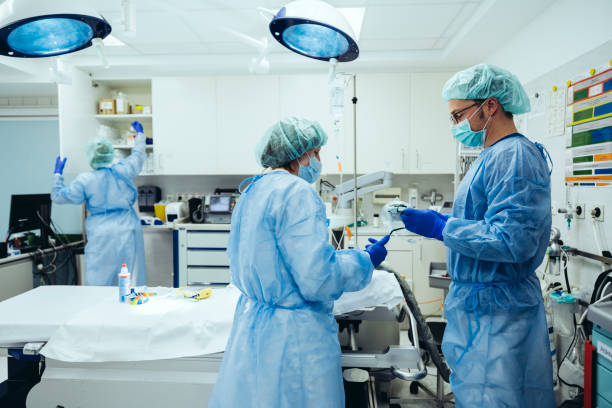cabinet: (51, 77, 483, 175)
computer: (10, 192, 53, 233)
dispenser: (408, 187, 419, 208)
iv_pole: (331, 72, 359, 246)
medical_drawer: (178, 223, 235, 287)
operating_bed: (1, 270, 426, 408)
staff: (208, 116, 390, 407), (401, 63, 552, 408), (51, 122, 150, 291)
surgical_instrument: (116, 276, 220, 316)
surgical_light: (1, 1, 112, 60), (269, 1, 360, 64)
